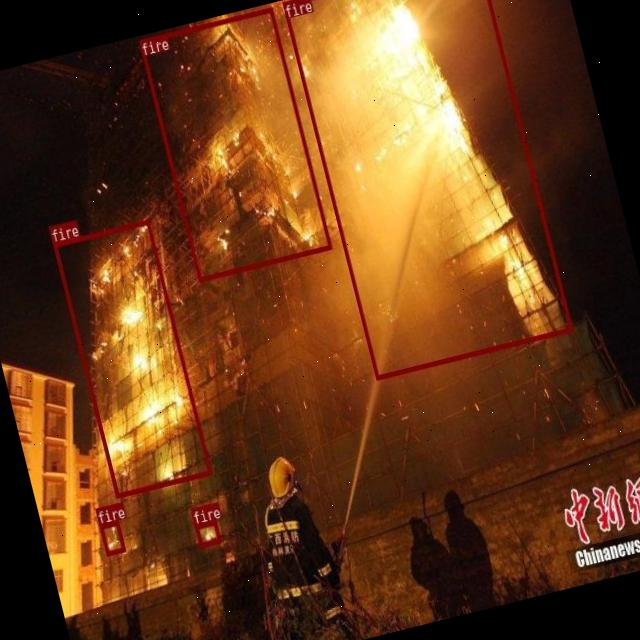fire: (282, 0, 572, 378), (138, 7, 332, 282), (52, 218, 210, 496), (98, 520, 125, 555), (193, 520, 220, 546)
